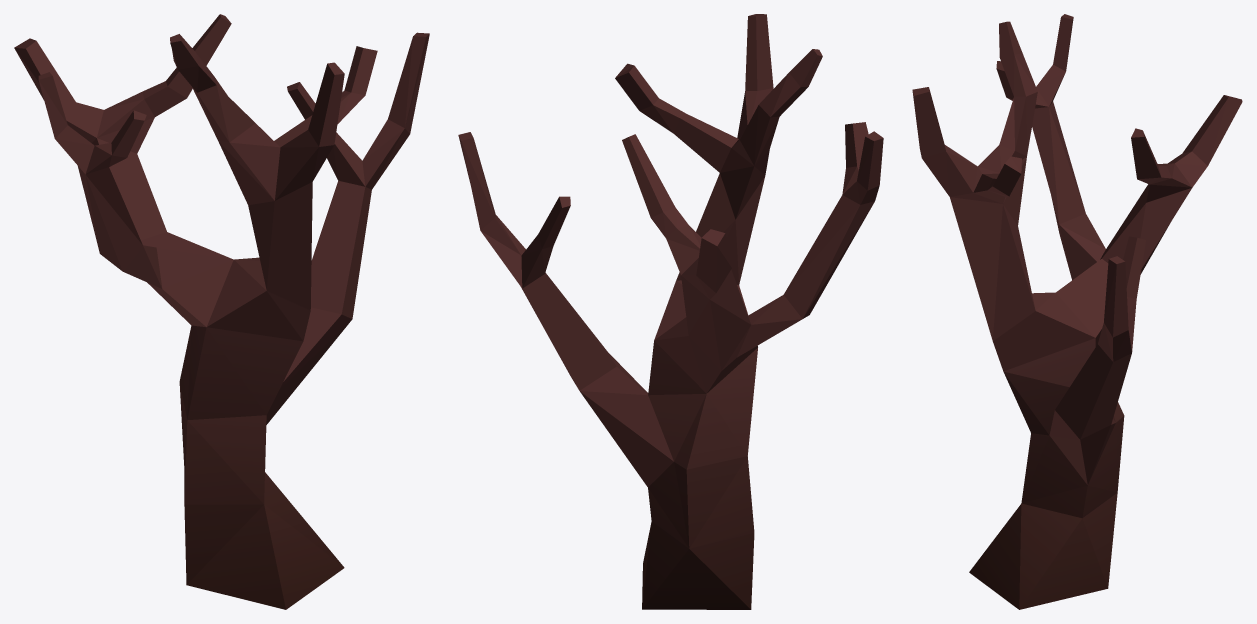
File: DarkBark1.fbx
3 renders of one model, left to right at view 1: azimuth 30°, elevation 25°; view 2: azimuth 150°, elevation 25°; view 3: azimuth 270°, elevation 25°, orthographic. The views are drawn at different scales.
Visible parts, largest first — view 1: DarkBark1; view 2: DarkBark1; view 3: DarkBark1.
Part boxes in pixels (bbox=[...]): DarkBark1: bbox=[14, 14, 429, 609]; DarkBark1: bbox=[458, 14, 883, 609]; DarkBark1: bbox=[912, 14, 1242, 609].
Size of the model in its own units: 273 by 361 by 210.
